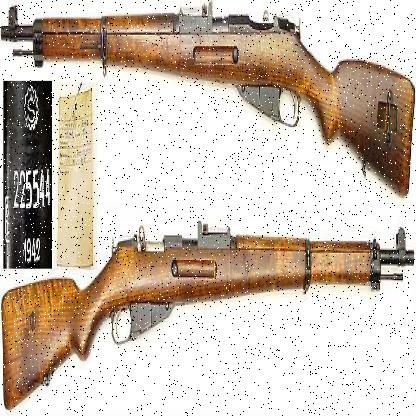rifle: (0, 0, 414, 208), (0, 219, 415, 415)
